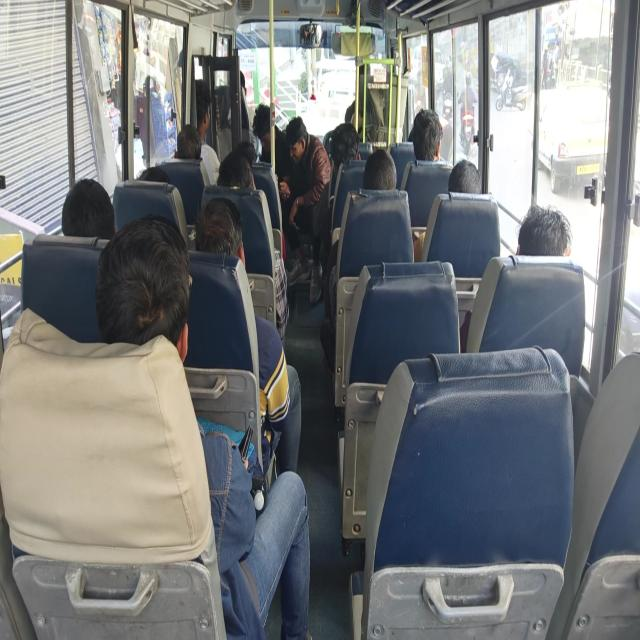person: (113, 215, 203, 370), (58, 174, 117, 262), (515, 203, 576, 285), (197, 202, 254, 276), (412, 100, 458, 180), (213, 56, 264, 123), (136, 153, 178, 232), (153, 127, 210, 184), (346, 46, 380, 121), (219, 148, 263, 202), (443, 158, 481, 212), (255, 100, 284, 160), (333, 125, 359, 189), (364, 162, 404, 203), (178, 83, 214, 125), (291, 121, 305, 169)
